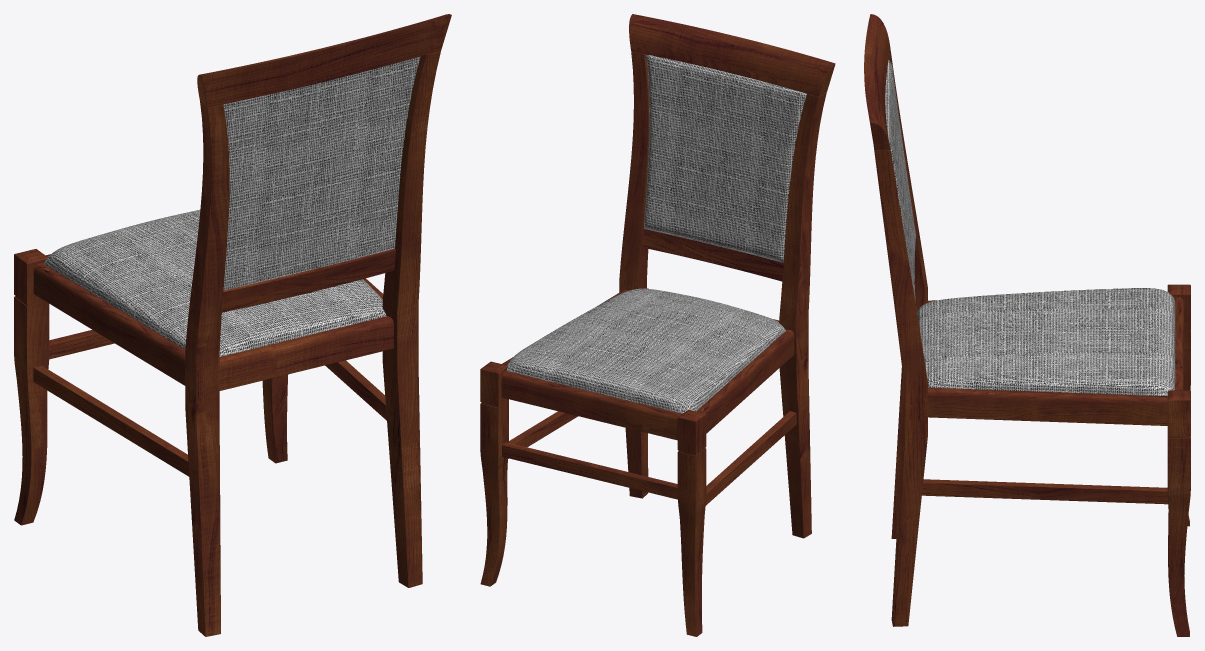
File: kitchen_chair.fbx
3 renders of one model, left to right at view 1: azimuth 30°, elevation 25°; view 2: azimuth 150°, elevation 25°; view 3: azimuth 270°, elevation 25°, orthographic. The views are drawn at different scales.
Visible parts, largest first — view 1: table&chair_Akacia_02; view 2: table&chair_Akacia_02; view 3: table&chair_Akacia_02.
Boxes of the visible parts, left/top/right/bottom form: table&chair_Akacia_02: left=14, top=14, right=451, bottom=636; table&chair_Akacia_02: left=480, top=14, right=835, bottom=636; table&chair_Akacia_02: left=864, top=14, right=1190, bottom=636.
Bounding box in the file's own units: 191 × 394 × 228.
